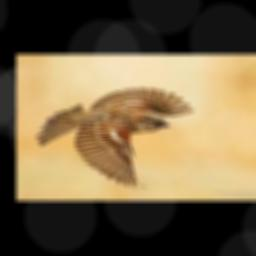Sparrow: (36, 88, 195, 188)
